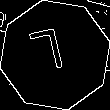L_S: (34, 27, 76, 83)
